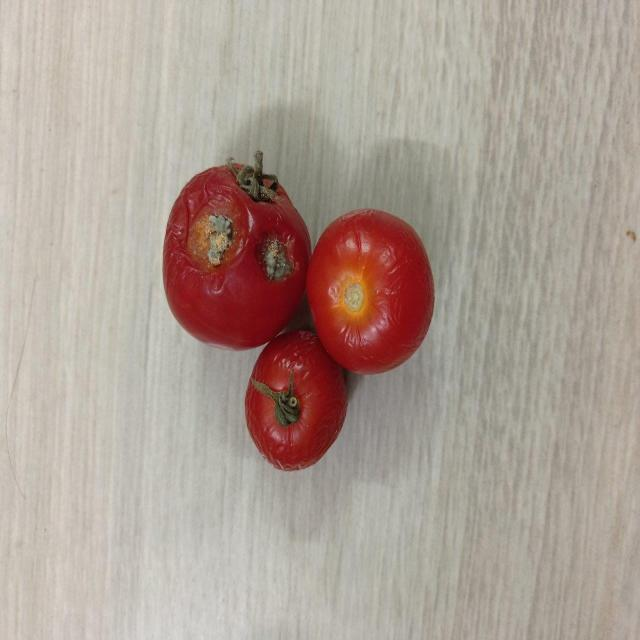Rotten: (162, 159, 312, 350)
overripe: (304, 207, 434, 373)
